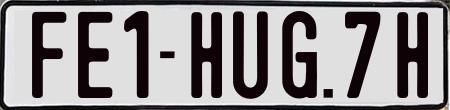1: (124, 10, 150, 103)
7: (342, 11, 381, 102)
E: (78, 12, 114, 98)
F: (31, 12, 68, 104)
G: (280, 10, 320, 100)
H: (191, 11, 223, 100), (394, 12, 426, 99)
U: (230, 10, 271, 104)
